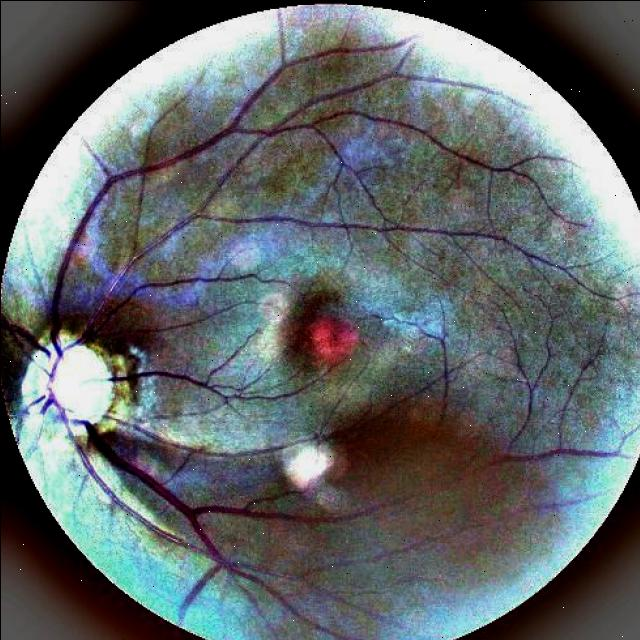Macula: (287, 300, 351, 369)
Nerves: (0, 12, 452, 605), (104, 329, 341, 406), (102, 410, 307, 477), (371, 116, 536, 187)
Optic Disk: (18, 336, 117, 435)
